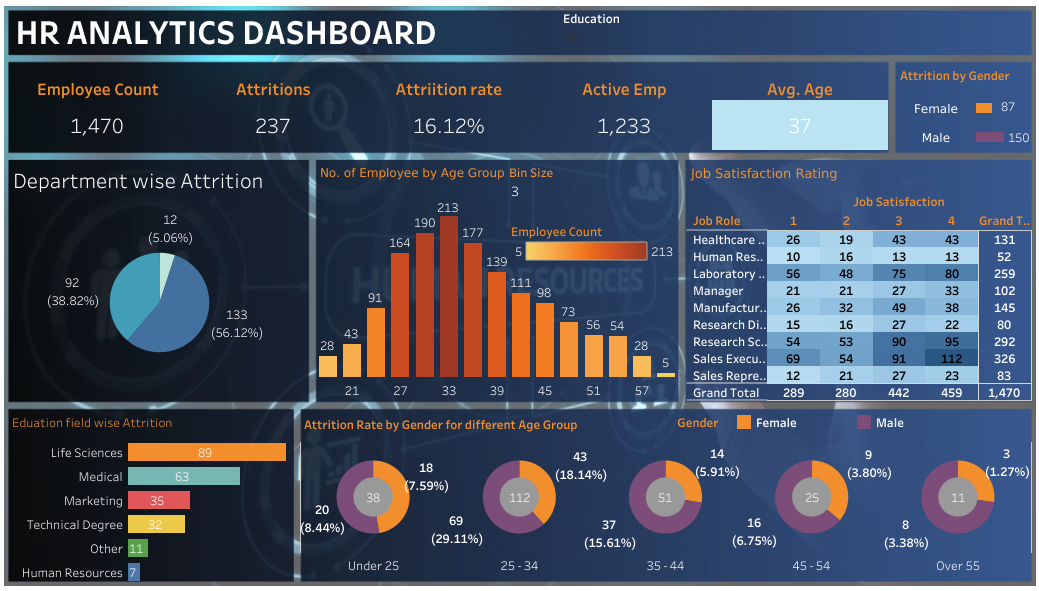

Layout of this report page (visuals, bound fields, positions):
{"tool":"tableau","page":{"name":"Dashboard 1","canvas":[1000,1000],"units":"permille","ordinal":0},"visuals":[{"type":"image","param":"Image/HR background.pptx.png","box":[0,0,1000,1000]},{"type":"text","box":[12.5,13.7,975,75.2]},{"type":"filter","title":"Eduation field wise Attrition","param":"[federated.14mp0u10kg4su31d6cmux0jx7ev3].[none:Education Field:nk]","box":[541.4,13.7,167.3,75.2]},{"type":"worksheet","title":"KPI","mark":"Automatic","box":[9.7,100.9,843.7,152.1]},{"type":"worksheet","title":"Attrition by Gender","mark":"Automatic","rows":["Gender"],"cols":["Calculation_1113796516513705984"],"box":[861.2,100.9,133,155.6]},{"type":"worksheet","title":"No. of Employee by Age Group","mark":"Automatic","rows":["Employee Count"],"cols":["Age (bin)"],"box":[303.9,268.4,347.6,408.6]},{"type":"worksheet","title":"Job Satisfaction Rating","mark":"Square","rows":["Job Role"],"cols":["Job Satisfaction"],"box":[660.2,268.4,332,408.6]},{"type":"worksheet","title":"Department wise Attrition","mark":"Pie","box":[8.7,270.1,289.3,408.6]},{"type":"parameter","param":"[Parameters].[Parameter 1]","box":[489.3,273.5,160.2,82]},{"type":"legend","title":"No. of Employee by Age Group","param":"[federated.14mp0u10kg4su31d6cmux0jx7ev3].[sum:Employee Count:qk]","box":[491.3,367.5,160.2,80.3]},{"type":"worksheet","title":"Eduation field wise Attrition","mark":"Automatic","rows":["Education Field"],"cols":["Calculation_1113796516513705984"],"box":[7.8,687.2,275.7,299.2]},{"type":"worksheet","title":"Attrition Rate by Gender for different Age Group","mark":"Pie","rows":["Calculation_1168121189926420485","Calculation_1168121189926420485"],"cols":["CF_age band"],"box":[288.4,690.6,703.9,290.6]},{"type":"legend","title":"Attrition Rate by Gender for different Age Group","param":"[federated.14mp0u10kg4su31d6cmux0jx7ev3].[none:Gender:nk]","box":[636.9,695.7,355.3,56.4]}]}

Visuals, with their boxes on the dashboard's canvas, which has no fixed pixel size, in thousandths of its width and height (x1, y1, x2, y2). These are canvas units, not pixel positions in the 1039x591 screenshot, which may show the page scaled, cropped or inside an application window:
image: {"left": 0, "top": 0, "right": 1000, "bottom": 1000}
text: {"left": 12, "top": 14, "right": 988, "bottom": 89}
"Eduation field wise Attrition" filter: {"left": 541, "top": 14, "right": 709, "bottom": 89}
"KPI" worksheet: {"left": 10, "top": 101, "right": 853, "bottom": 253}
"Attrition by Gender" worksheet: {"left": 861, "top": 101, "right": 994, "bottom": 256}
"No. of Employee by Age Group" worksheet: {"left": 304, "top": 268, "right": 652, "bottom": 677}
"Job Satisfaction Rating" worksheet (Square marks): {"left": 660, "top": 268, "right": 992, "bottom": 677}
"Department wise Attrition" worksheet (Pie marks): {"left": 9, "top": 270, "right": 298, "bottom": 679}
parameter: {"left": 489, "top": 274, "right": 650, "bottom": 356}
"No. of Employee by Age Group" legend: {"left": 491, "top": 368, "right": 652, "bottom": 448}
"Eduation field wise Attrition" worksheet: {"left": 8, "top": 687, "right": 284, "bottom": 986}
"Attrition Rate by Gender for different Age Group" worksheet (Pie marks): {"left": 288, "top": 691, "right": 992, "bottom": 981}
"Attrition Rate by Gender for different Age Group" legend: {"left": 637, "top": 696, "right": 992, "bottom": 752}
